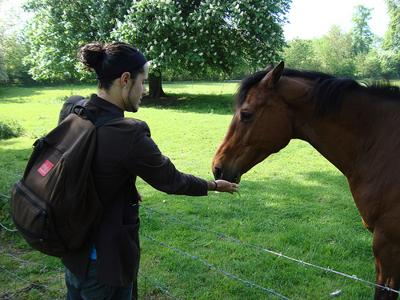person: (56, 39, 238, 300)
